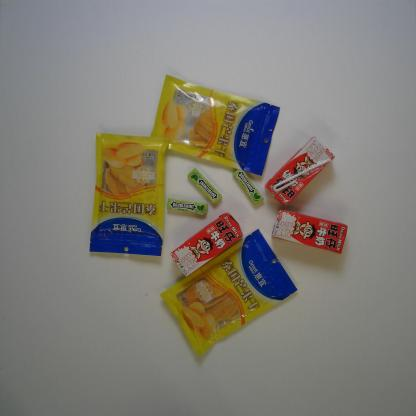Dried Fruit: (159, 228, 298, 360), (149, 74, 280, 177), (89, 132, 170, 256)
Gum: (187, 167, 222, 205), (233, 168, 265, 206), (167, 197, 208, 215)
Milk: (265, 136, 336, 207), (170, 212, 243, 277), (271, 209, 348, 255)
